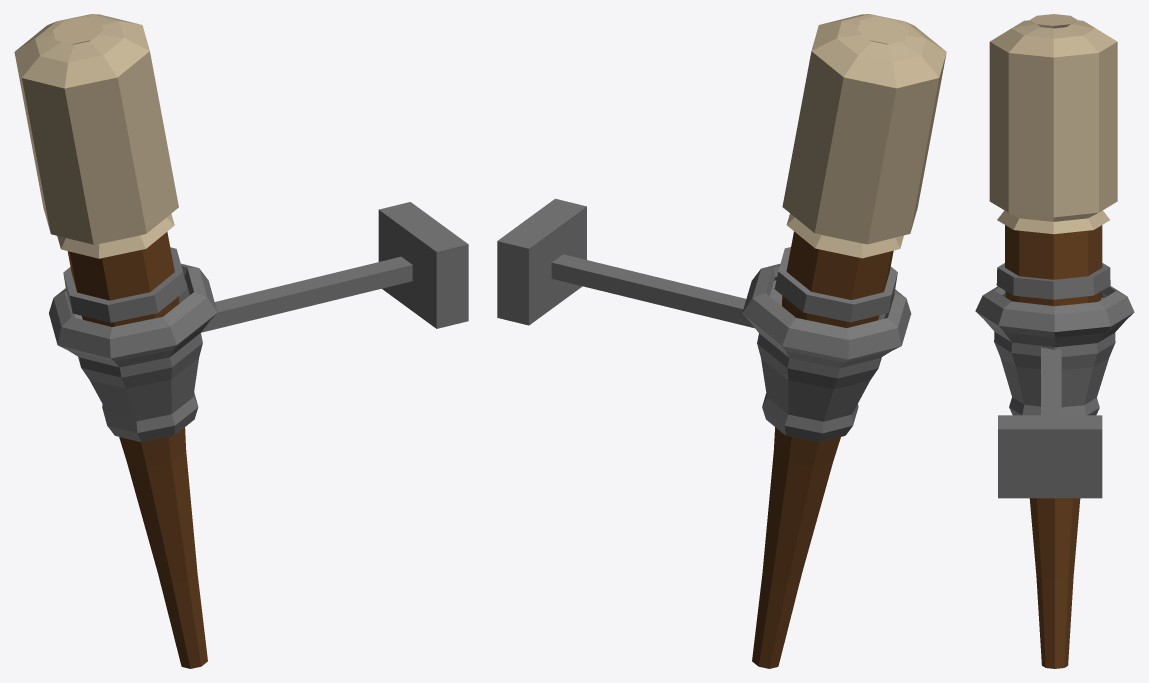
Rendered from Torch.fbx.
3 views of the same model, side by side, from view 1: azimuth 30°, elevation 25°; view 2: azimuth 150°, elevation 25°; view 3: azimuth 270°, elevation 25° (orthographic). The views are drawn at different scales.
Visible parts, largest first — view 1: Torch; view 2: Torch; view 3: Torch.
Part boxes in pixels (x1=…): Torch: x1=14, y1=14, x2=468, y2=668; Torch: x1=497, y1=14, x2=946, y2=668; Torch: x1=975, y1=14, x2=1134, y2=668.
Bounding box in the file's own units: 21.28 × 32.61 × 7.84.
